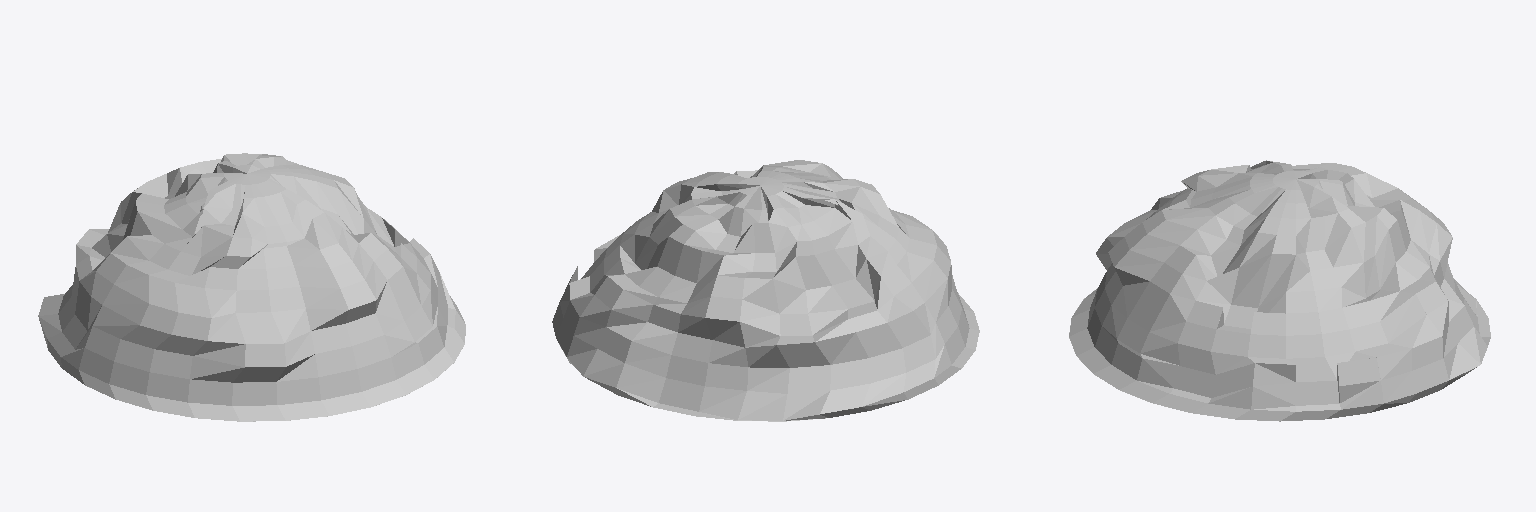
Rendered from Piedra_Decorativa.obj.
The picture shows the model from 3 angles: view 1: azimuth 30°, elevation 25°; view 2: azimuth 150°, elevation 25°; view 3: azimuth 270°, elevation 25°; orthographic projection.
Visible parts, largest first — view 1: polySurface152; view 2: polySurface152; view 3: polySurface152.
Part boxes in pixels (x1,y1,x2,y2): polySurface152: (38,153,465,421); polySurface152: (552,160,979,421); polySurface152: (1069,160,1490,421).
Size of the model in its own units: 1.94 by 0.7775 by 1.94.